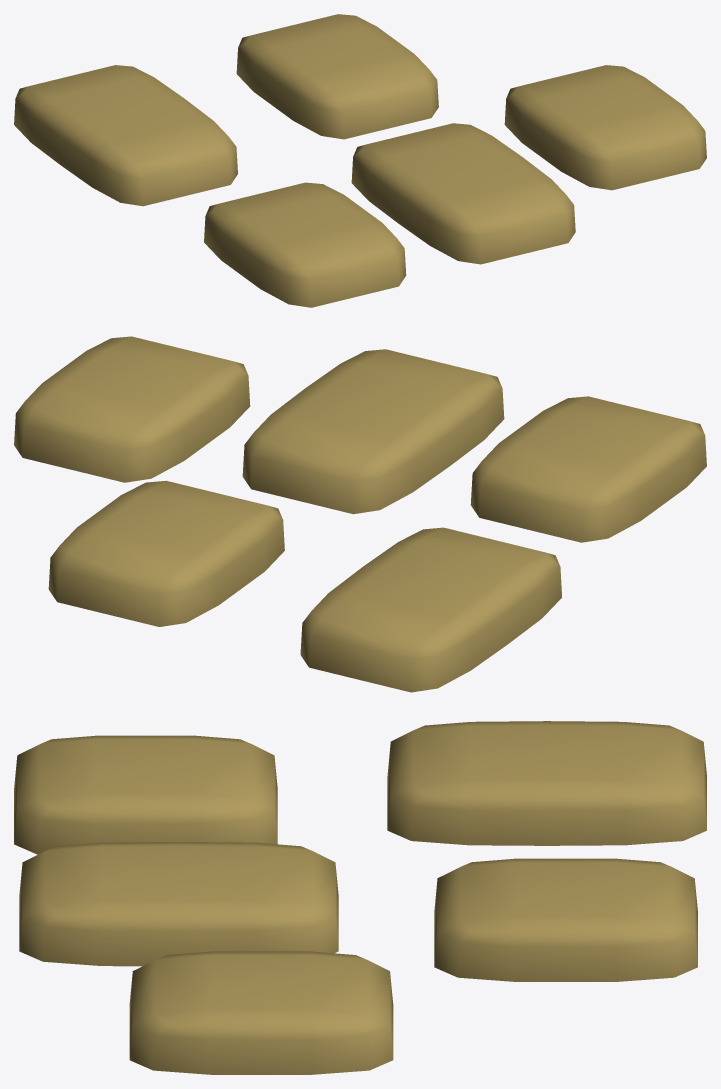
The model's file is path_1.fbx.
3 renders of one model, top to bottom at view 1: azimuth 30°, elevation 25°; view 2: azimuth 150°, elevation 25°; view 3: azimuth 270°, elevation 25°, orthographic. The views are drawn at different scales.
Parts seen in each view (by area): view 1: path_1; view 2: path_1; view 3: path_1.
Boxes of the visible parts, bbox=[...] form: path_1: bbox=[14, 14, 706, 307]; path_1: bbox=[14, 336, 706, 692]; path_1: bbox=[14, 721, 706, 1074].
Bounding box in the file's own units: 154 × 11.73 × 145.
